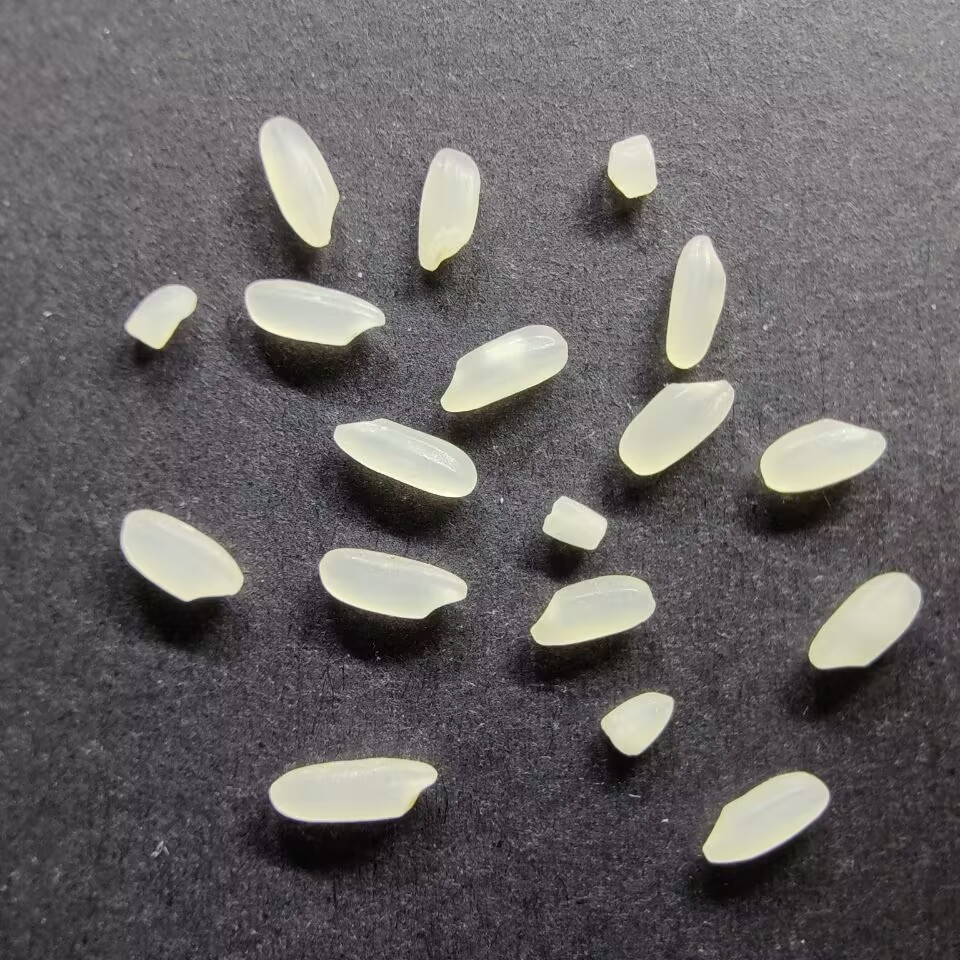broken: (595, 690, 677, 758), (121, 282, 200, 352), (540, 492, 610, 553), (602, 134, 661, 199)
rice: (701, 769, 832, 865), (616, 377, 738, 478), (805, 569, 925, 671), (117, 509, 245, 604), (331, 417, 479, 499), (267, 756, 438, 825), (439, 323, 570, 413), (316, 546, 470, 620), (257, 115, 340, 247), (242, 277, 387, 348), (758, 417, 888, 493), (529, 574, 659, 648), (663, 232, 727, 370), (416, 146, 481, 274)
